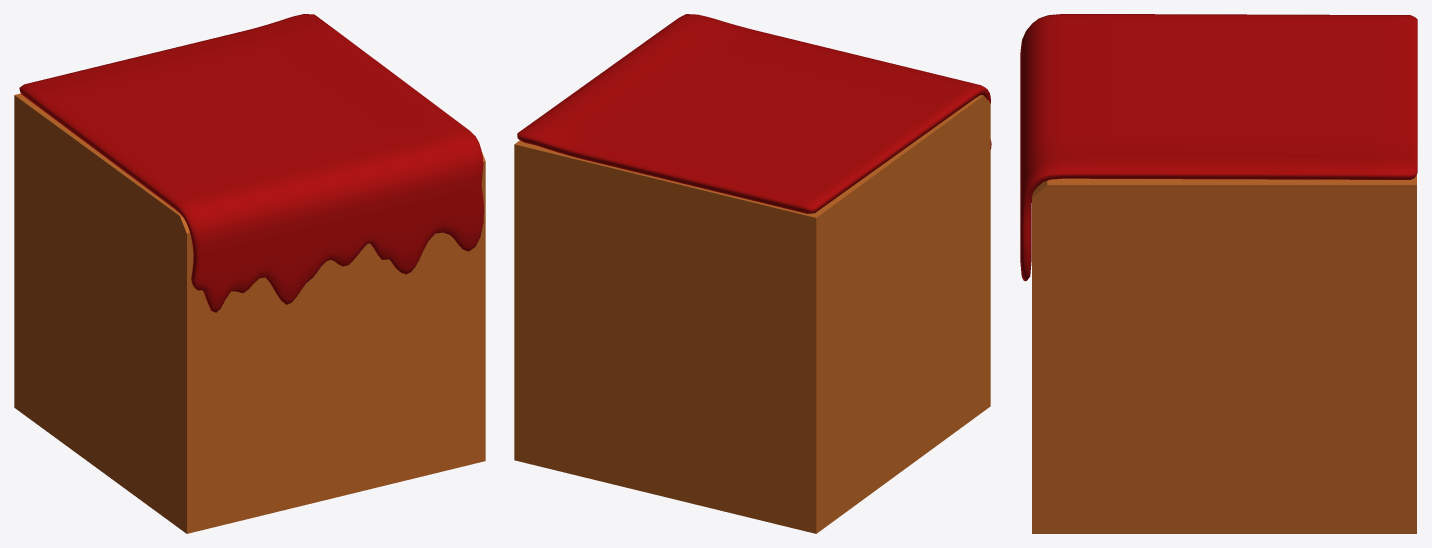
The model's file is mesh_BuildingBlock1_Ketchup.FBX.
3 views of the same model, side by side, from view 1: azimuth 30°, elevation 25°; view 2: azimuth 150°, elevation 25°; view 3: azimuth 270°, elevation 25° (orthographic). The views are drawn at different scales.
Parts seen in each view (by area): view 1: BuildingBlock_1sideKetchup; view 2: BuildingBlock_1sideKetchup; view 3: BuildingBlock_1sideKetchup.
Part boxes in pixels (x1,y1,x2,y2): BuildingBlock_1sideKetchup: [14, 14, 485, 533]; BuildingBlock_1sideKetchup: [514, 14, 991, 533]; BuildingBlock_1sideKetchup: [1020, 14, 1417, 533].
Size of the model in its own units: 39.38 by 40.89 by 40.66.
